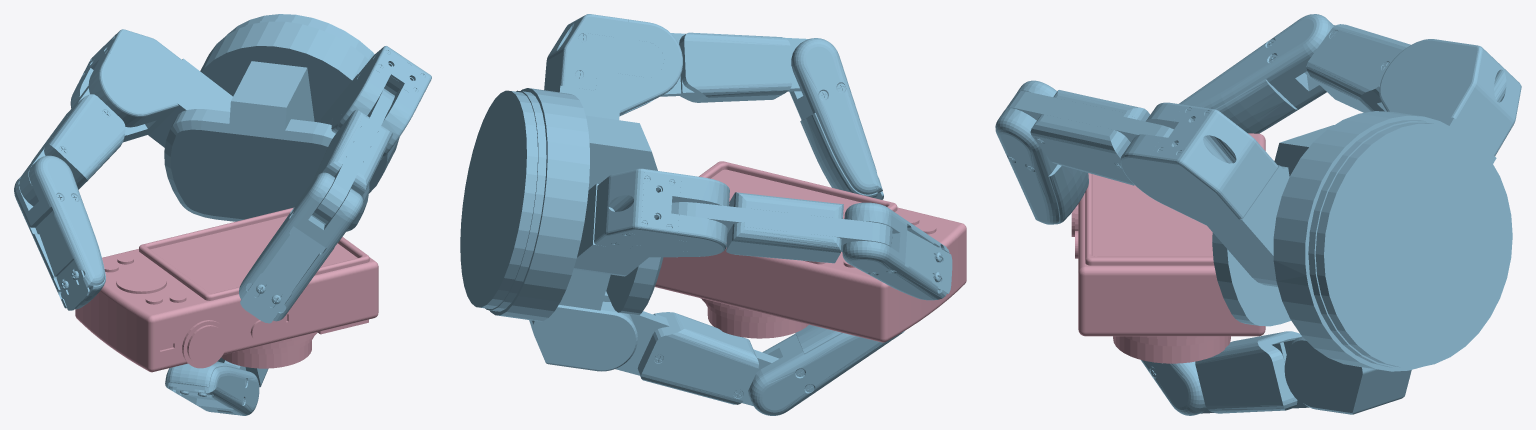
The picture shows the model from 3 angles, left to right: view 1: azimuth 30°, elevation 25°; view 2: azimuth 150°, elevation 25°; view 3: azimuth 270°, elevation 25°; orthographic projection. The views are drawn at different scales.
Parts seen in each view (by area): view 1: world; view 2: world; view 3: world.
Boxes of the visible parts, x1,y1,x2,y2 form: world: (14, 14, 431, 415); world: (460, 14, 966, 415); world: (995, 14, 1521, 415).
Bounding box in the file's own units: 0.1891 × 0.151 × 0.1819.
